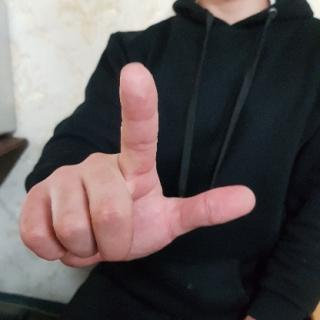LAAM: (18, 59, 258, 269)
